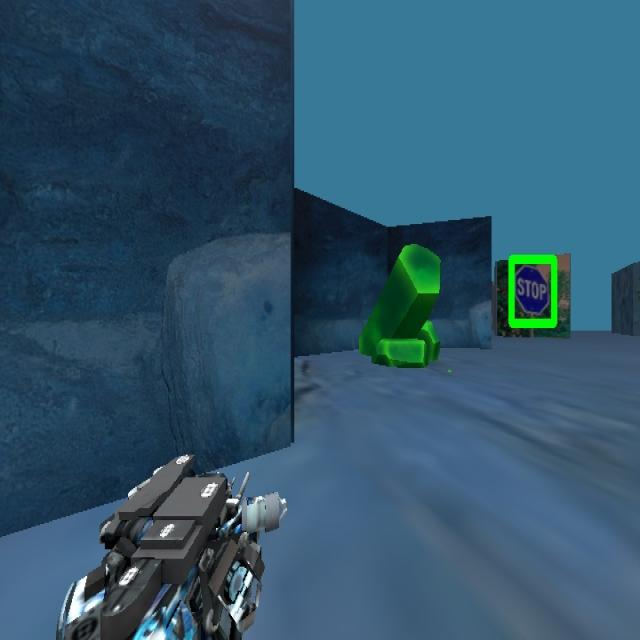Mushroom: (357, 241, 442, 368)
Stop_Sign: (507, 252, 558, 329)
